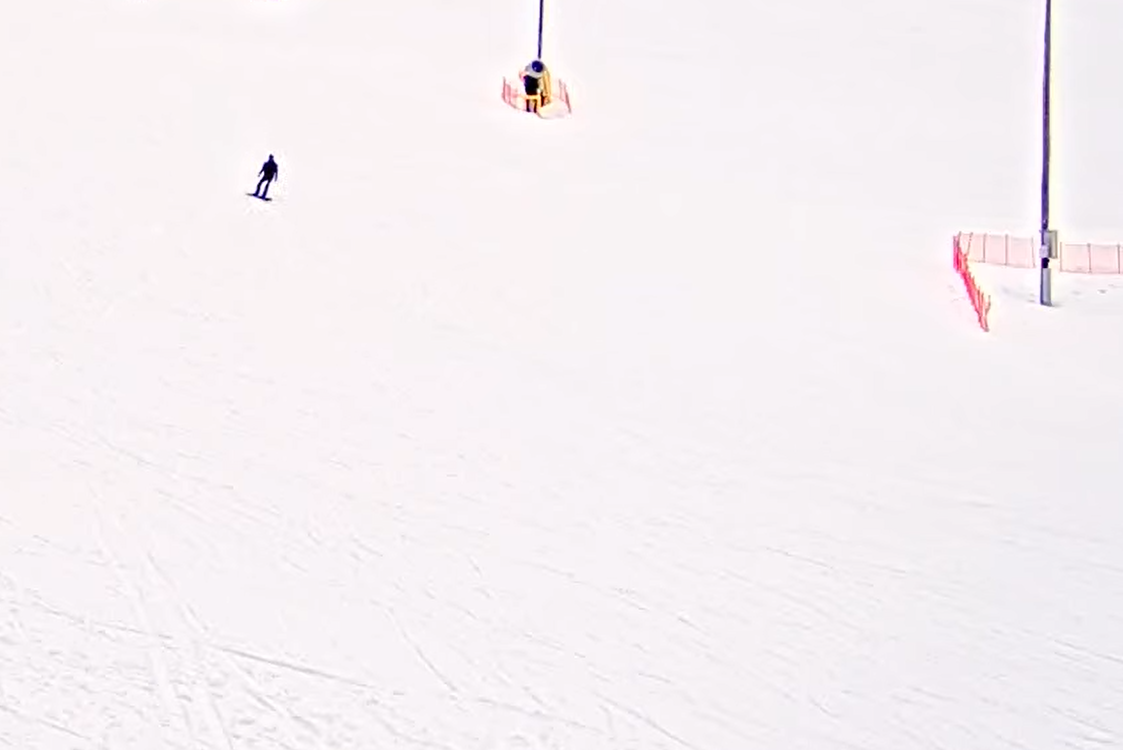snowboarder: (245, 152, 282, 201)
